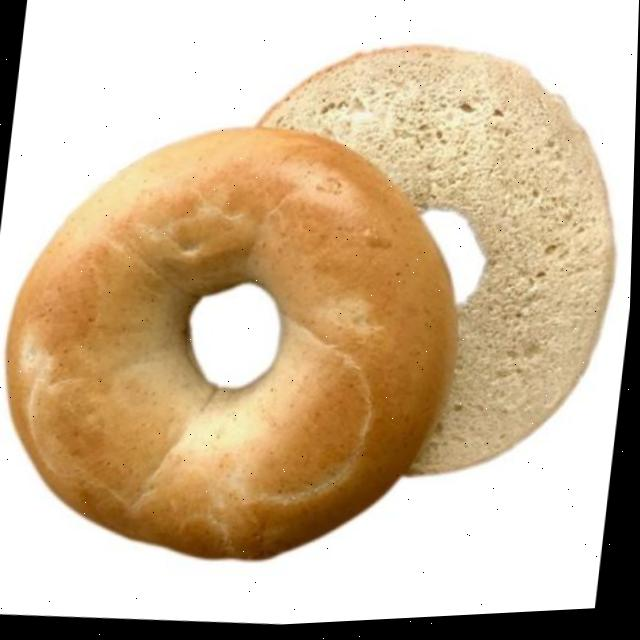Bagel: (8, 130, 458, 560), (262, 51, 614, 478)
